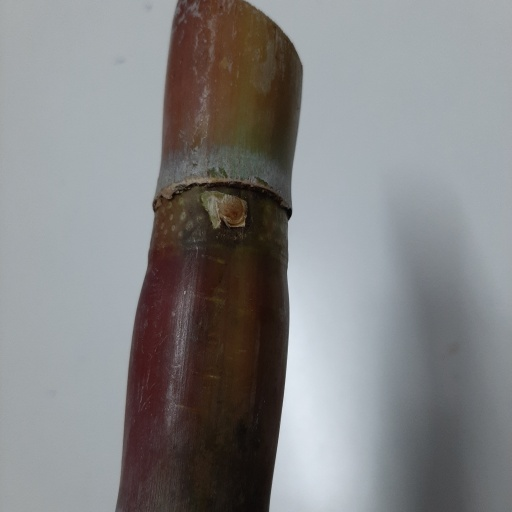Damage_Bud: (217, 195, 246, 226)
